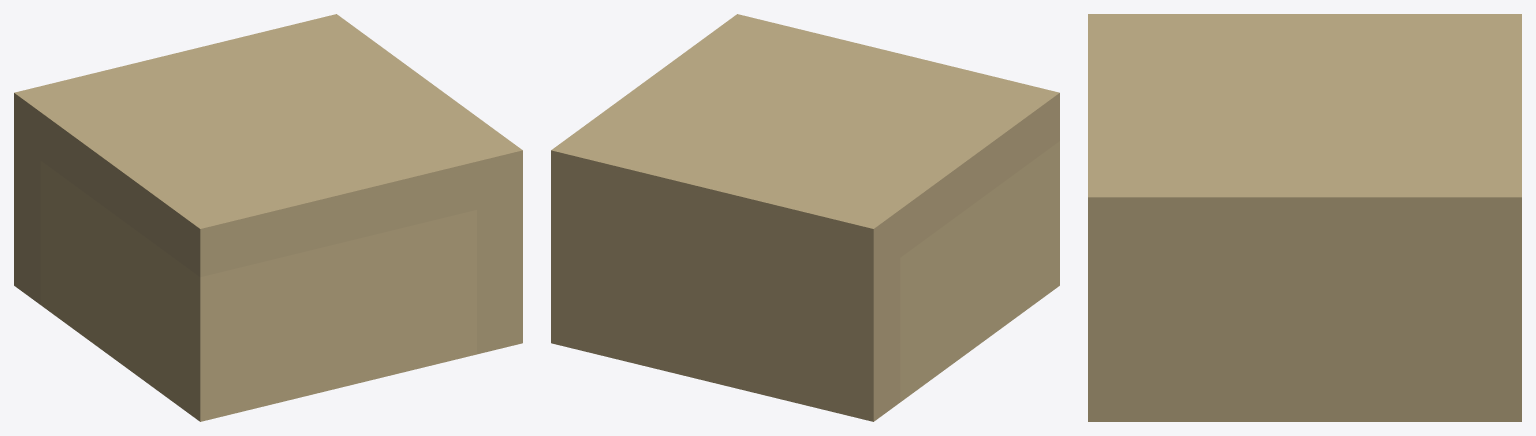
The model's file is arenisca_02.glb.
3 renders of one model, left to right at view 1: azimuth 30°, elevation 25°; view 2: azimuth 150°, elevation 25°; view 3: azimuth 270°, elevation 25°, orthographic. The views are drawn at different scales.
Parts seen in each view (by area): view 1: arenisca_02; view 2: arenisca_02; view 3: arenisca_02.
Part boxes in pixels (x1=…): arenisca_02: x1=14, y1=14, x2=522, y2=421; arenisca_02: x1=551, y1=14, x2=1059, y2=421; arenisca_02: x1=1088, y1=14, x2=1521, y2=421.
Size of the model in its own units: 0.7 by 0.4 by 0.7.
